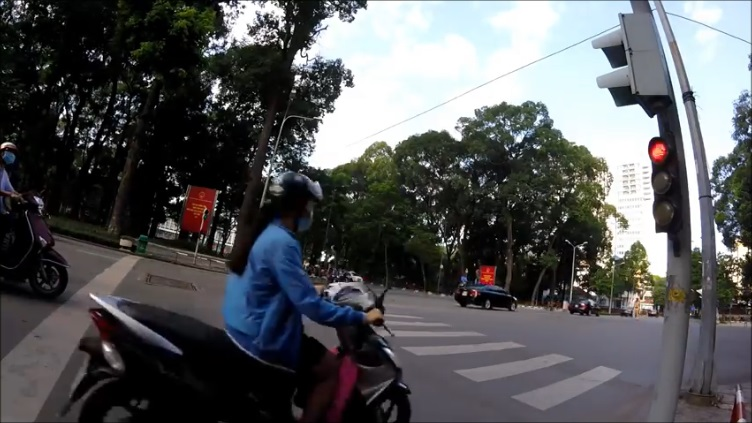police: (631, 294, 642, 324)
